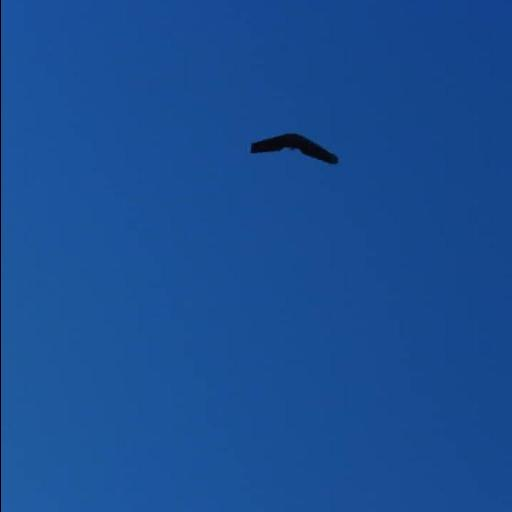uav: (243, 131, 343, 167)
